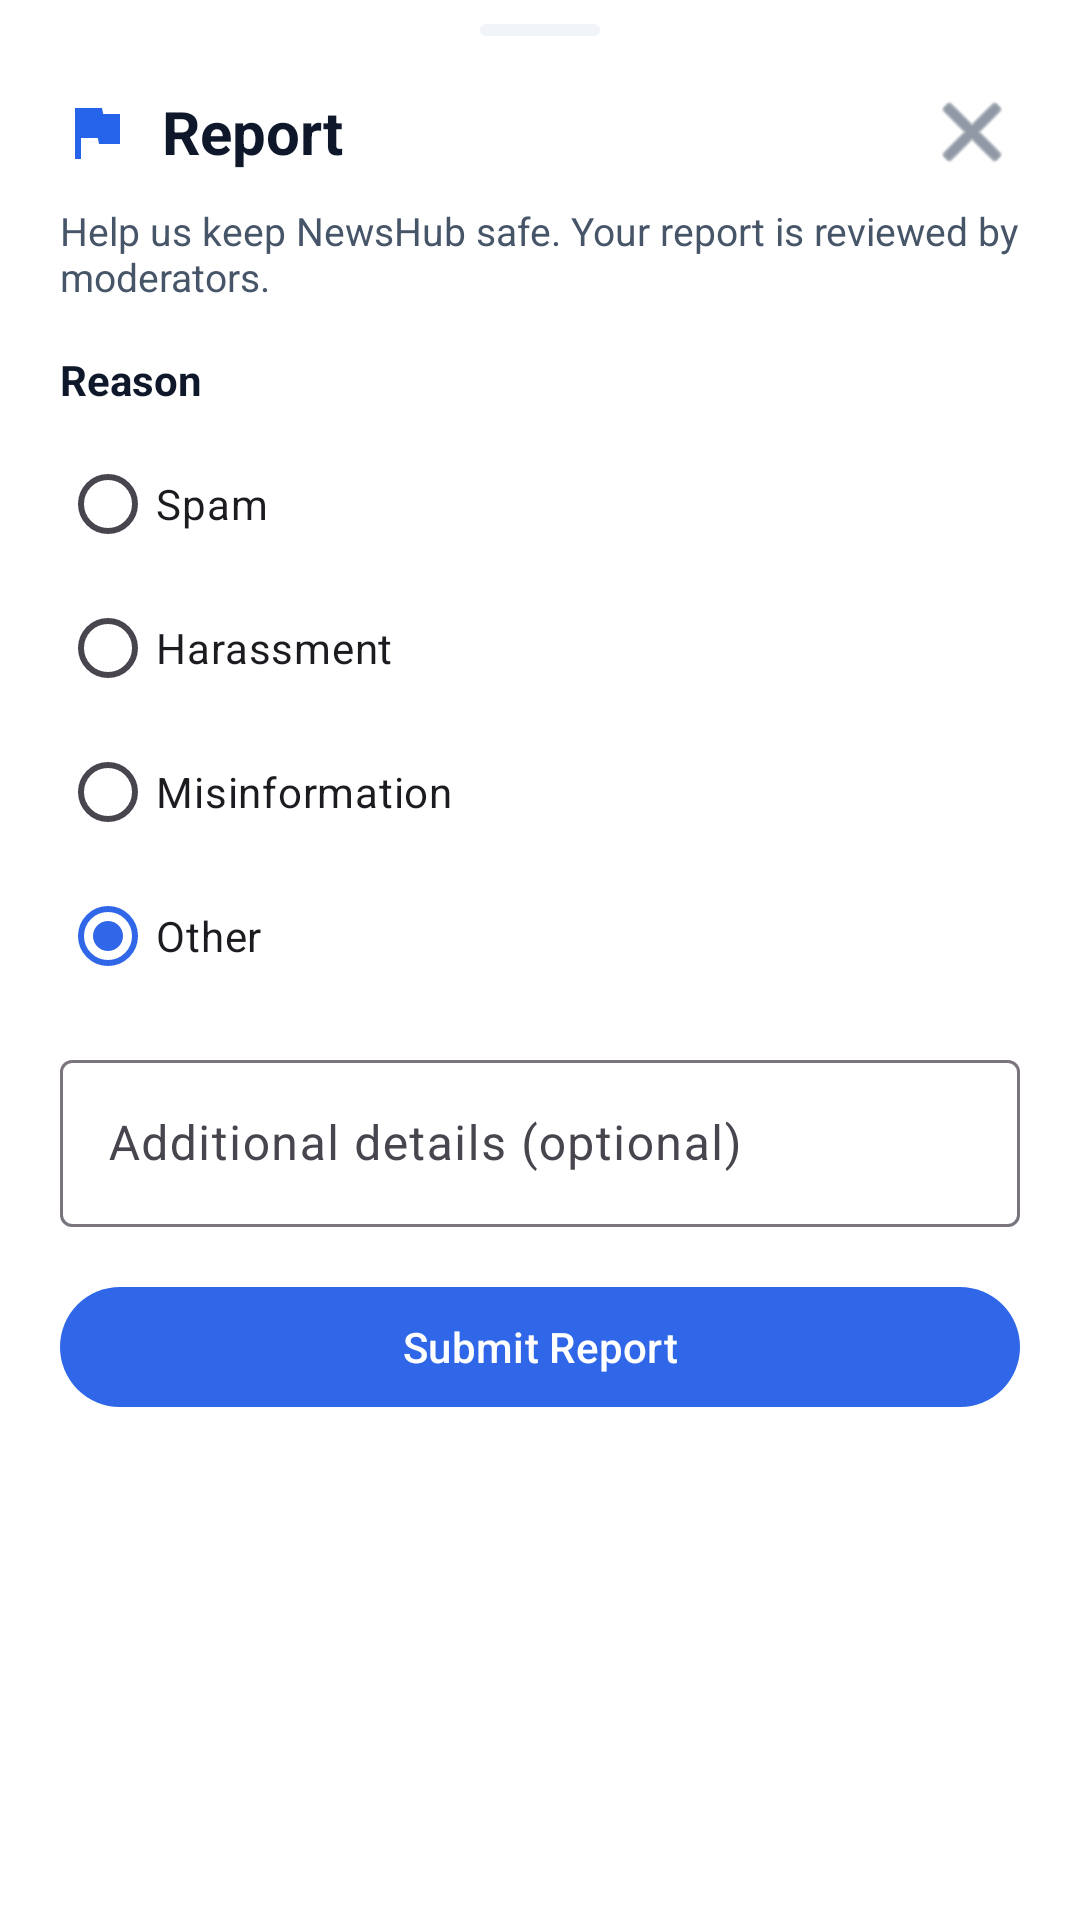

Locate icon controls on the screen. Image size 1080 × 1920, boxes as (x1, y1, x2, y2).
Close: (942, 102, 1002, 162)
flag: (75, 108, 120, 159)
